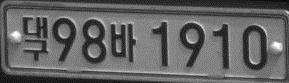0: (241, 24, 267, 70)
1: (148, 21, 174, 66), (211, 23, 237, 68)
8: (81, 18, 107, 64)
9: (178, 21, 206, 67), (52, 17, 77, 62)
대구_V: (22, 16, 49, 61)
바: (110, 22, 136, 62)
